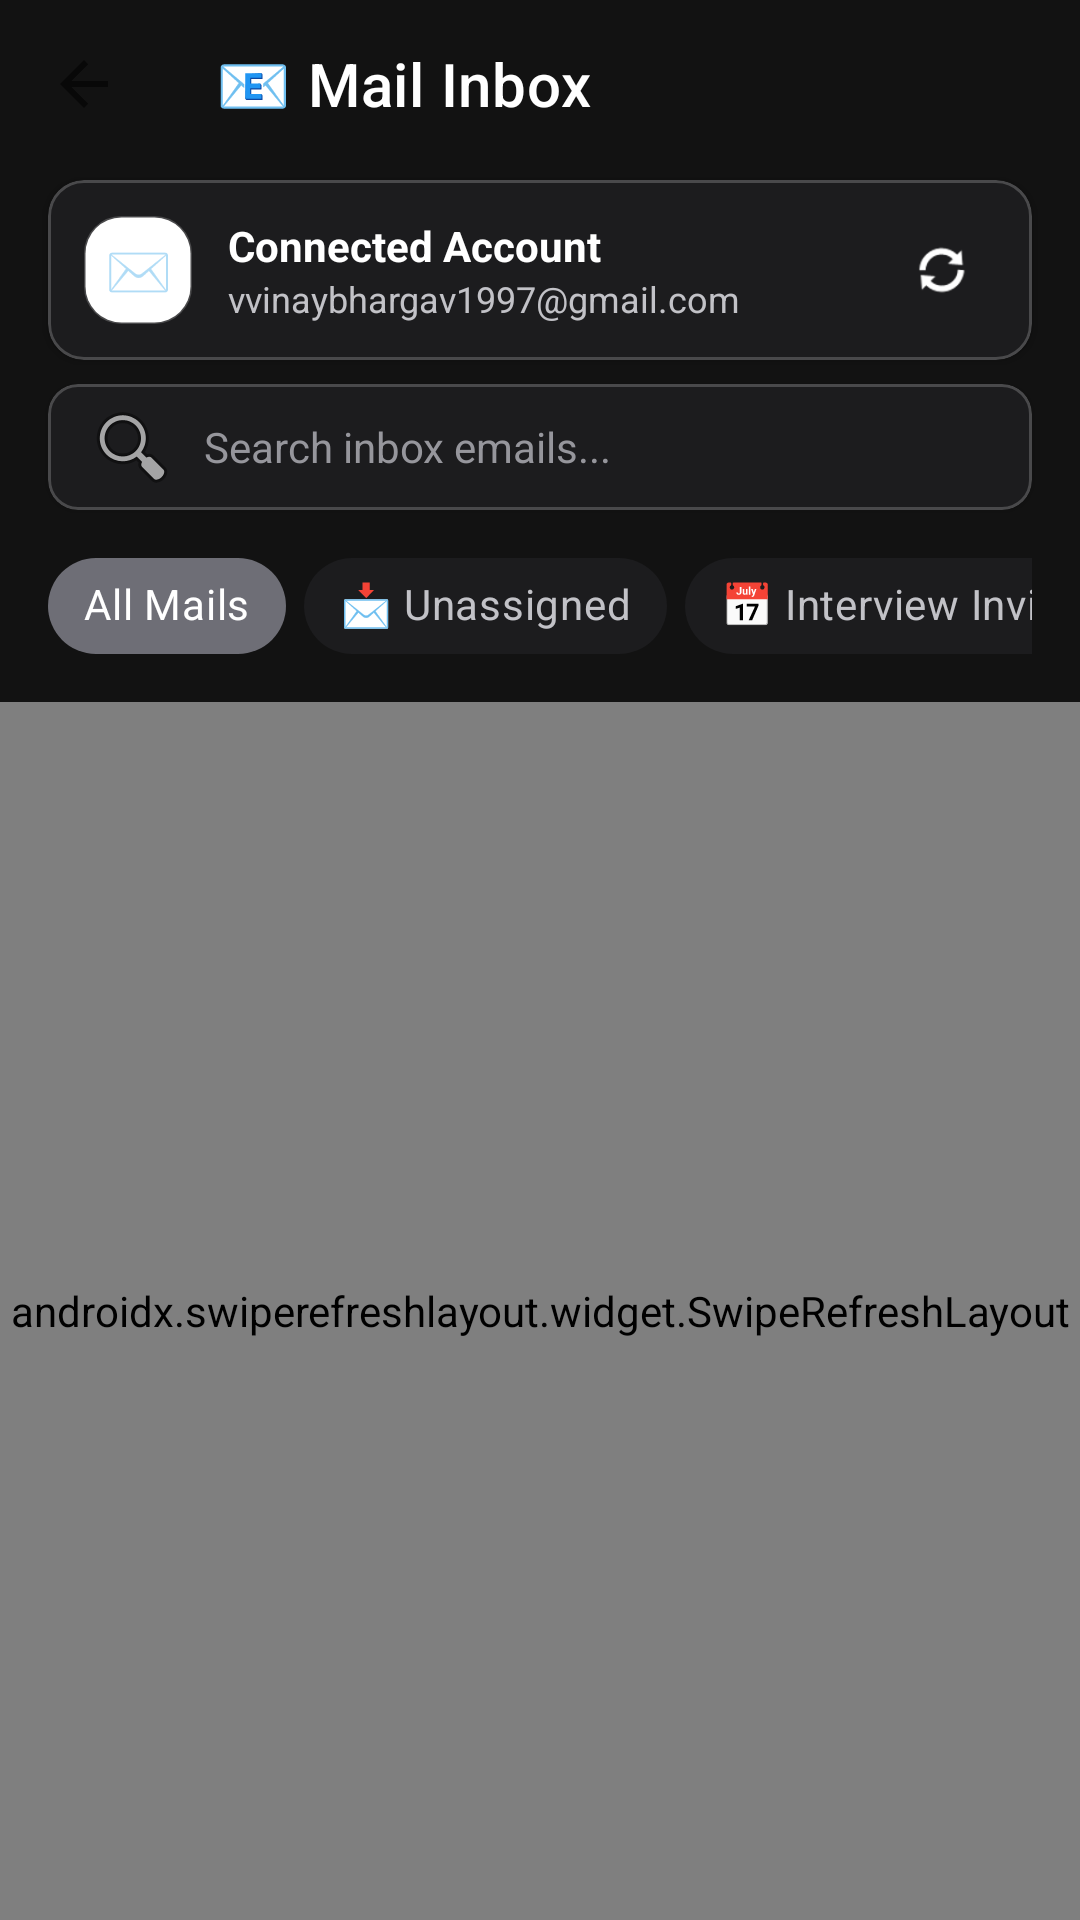

Locate icon controls on the screen. Image size 1080*1920, boxes as (x1, y1, x2, y2).
popup sync: (919, 247, 965, 293)
